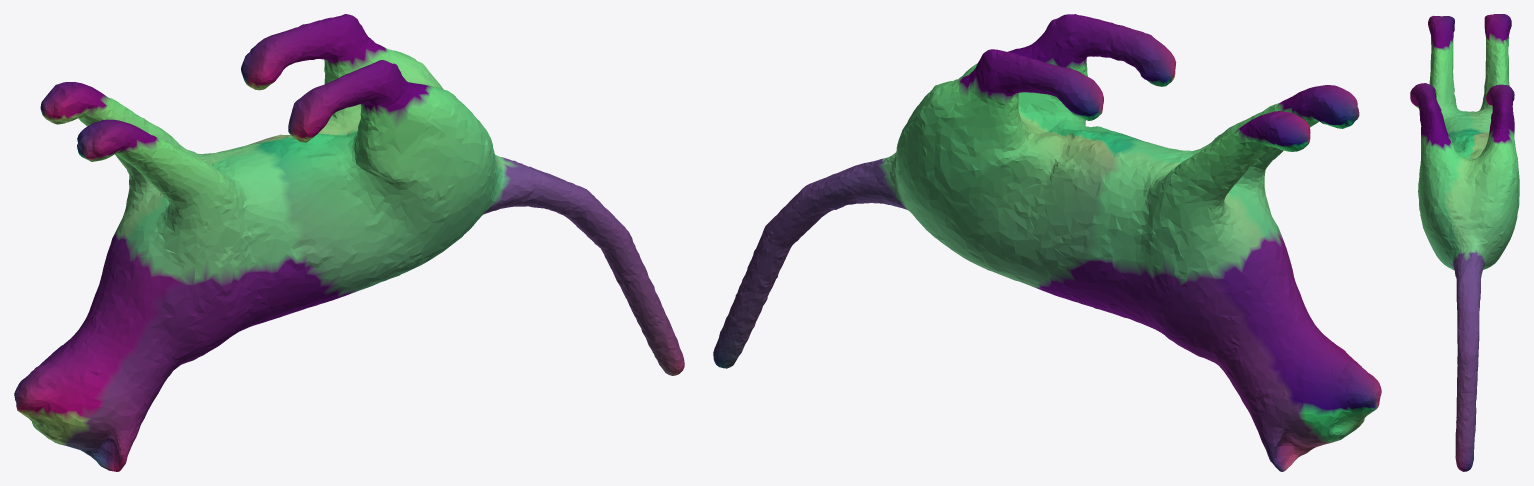
Rendered from cat-11.off.obj.
The picture shows the model from 3 angles, left to right: view 1: azimuth 30°, elevation 25°; view 2: azimuth 150°, elevation 25°; view 3: azimuth 270°, elevation 25°; orthographic projection. The views are drawn at different scales.
Bounding box in the file's own units: 1.32 × 0.784 × 0.2873.
